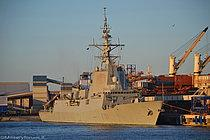MIL_Ship: (37, 61, 164, 127)
